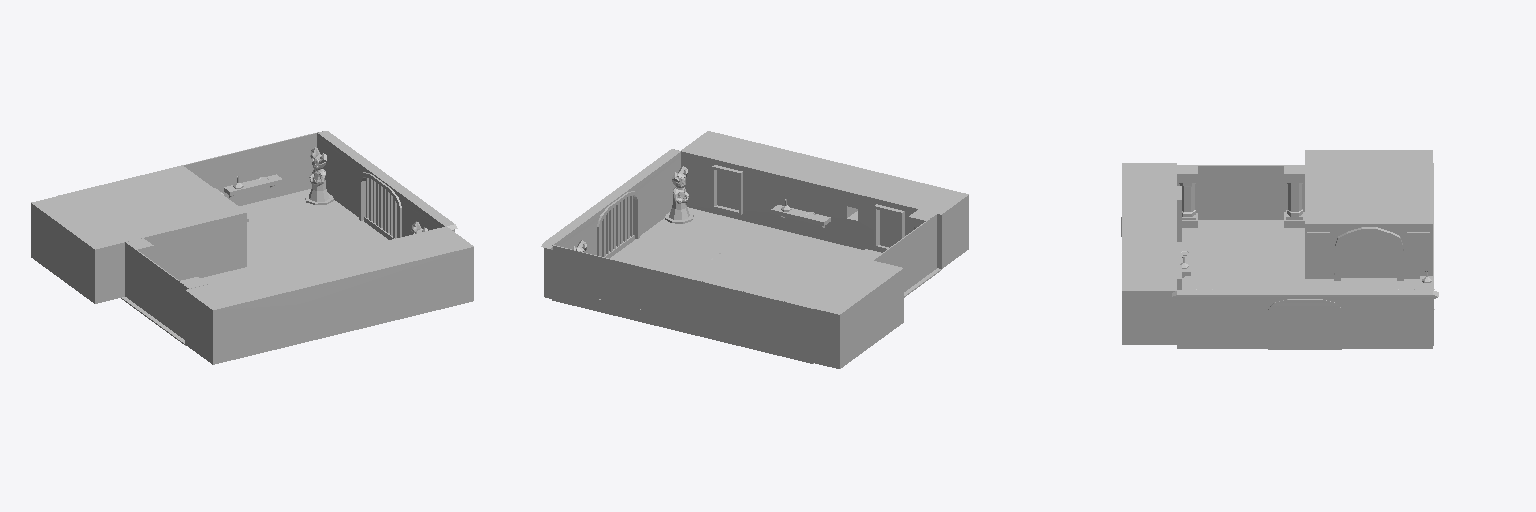
Rendered from mt5_level.obj.
The picture shows the model from 3 angles: view 1: azimuth 30°, elevation 25°; view 2: azimuth 150°, elevation 25°; view 3: azimuth 270°, elevation 25°; orthographic projection.
Visible parts, largest first — view 1: Cube.024, Cube.023, Cube.022, Cube.026, Cube.027, Cube.025, Cube.039, Cube.037, Cube.069; view 2: Cube.024, Cube.023, Cube.026, Cube.022, Cube.027, Cube.025, Cube.043, Cube.039, Cube.072, Cube.038, Cube.041; view 3: Cube.027, Cube.023, Cube.024, Cube.022, Cube.025, Plane, Cube.033, Cube.032.
Boxes of the visible parts, <box> form: Cube.024: <box>185,226,473,364</box>; Cube.023: <box>31,166,248,303</box>; Cube.022: <box>121,189,387,345</box>; Cube.026: <box>58,132,317,205</box>; Cube.027: <box>317,131,457,237</box>; Cube.025: <box>125,242,188,339</box>; Cube.039: <box>366,177,397,238</box>; Cube.037: <box>305,147,333,204</box>; Cube.069: <box>224,174,282,197</box>; Cube.024: <box>681,131,968,268</box>; Cube.023: <box>688,231,903,368</box>; Cube.026: <box>552,245,812,362</box>; Cube.022: <box>552,207,941,363</box>; Cube.027: <box>541,149,680,298</box>; Cube.025: <box>873,214,936,291</box>; Cube.043: <box>712,165,742,215</box>; Cube.039: <box>601,196,632,256</box>; Cube.072: <box>874,204,904,250</box>; Cube.038: <box>665,166,693,223</box>; Cube.041: <box>771,199,830,227</box>; Cube.027: <box>1172,290,1438,349</box>; Cube.023: <box>1305,150,1432,280</box>; Cube.024: <box>1121,163,1176,344</box>; Cube.022: <box>1177,220,1433,345</box>; Cube.025: <box>1176,165,1304,219</box>; Plane: <box>1341,233,1396,277</box>; Cube.033: <box>1284,166,1304,227</box>; Cube.032: <box>1177,165,1197,227</box>.
Bounding box in the file's own units: 16.42 × 3.55 × 15.18.